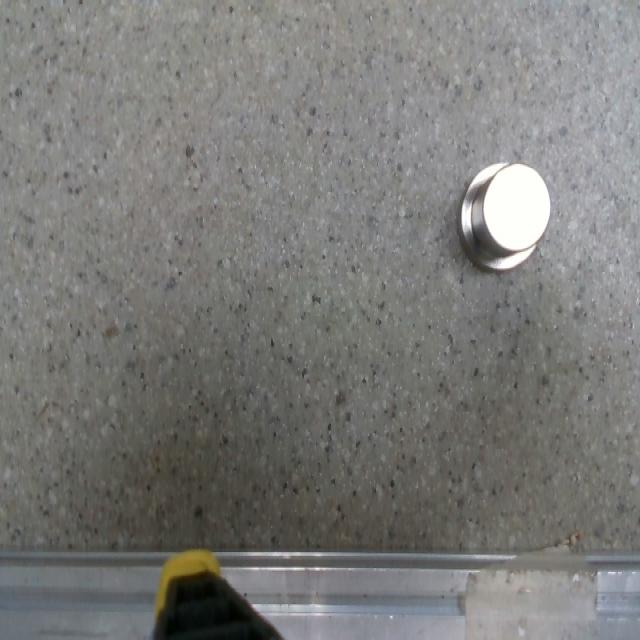sensor: (458, 159, 552, 272)
